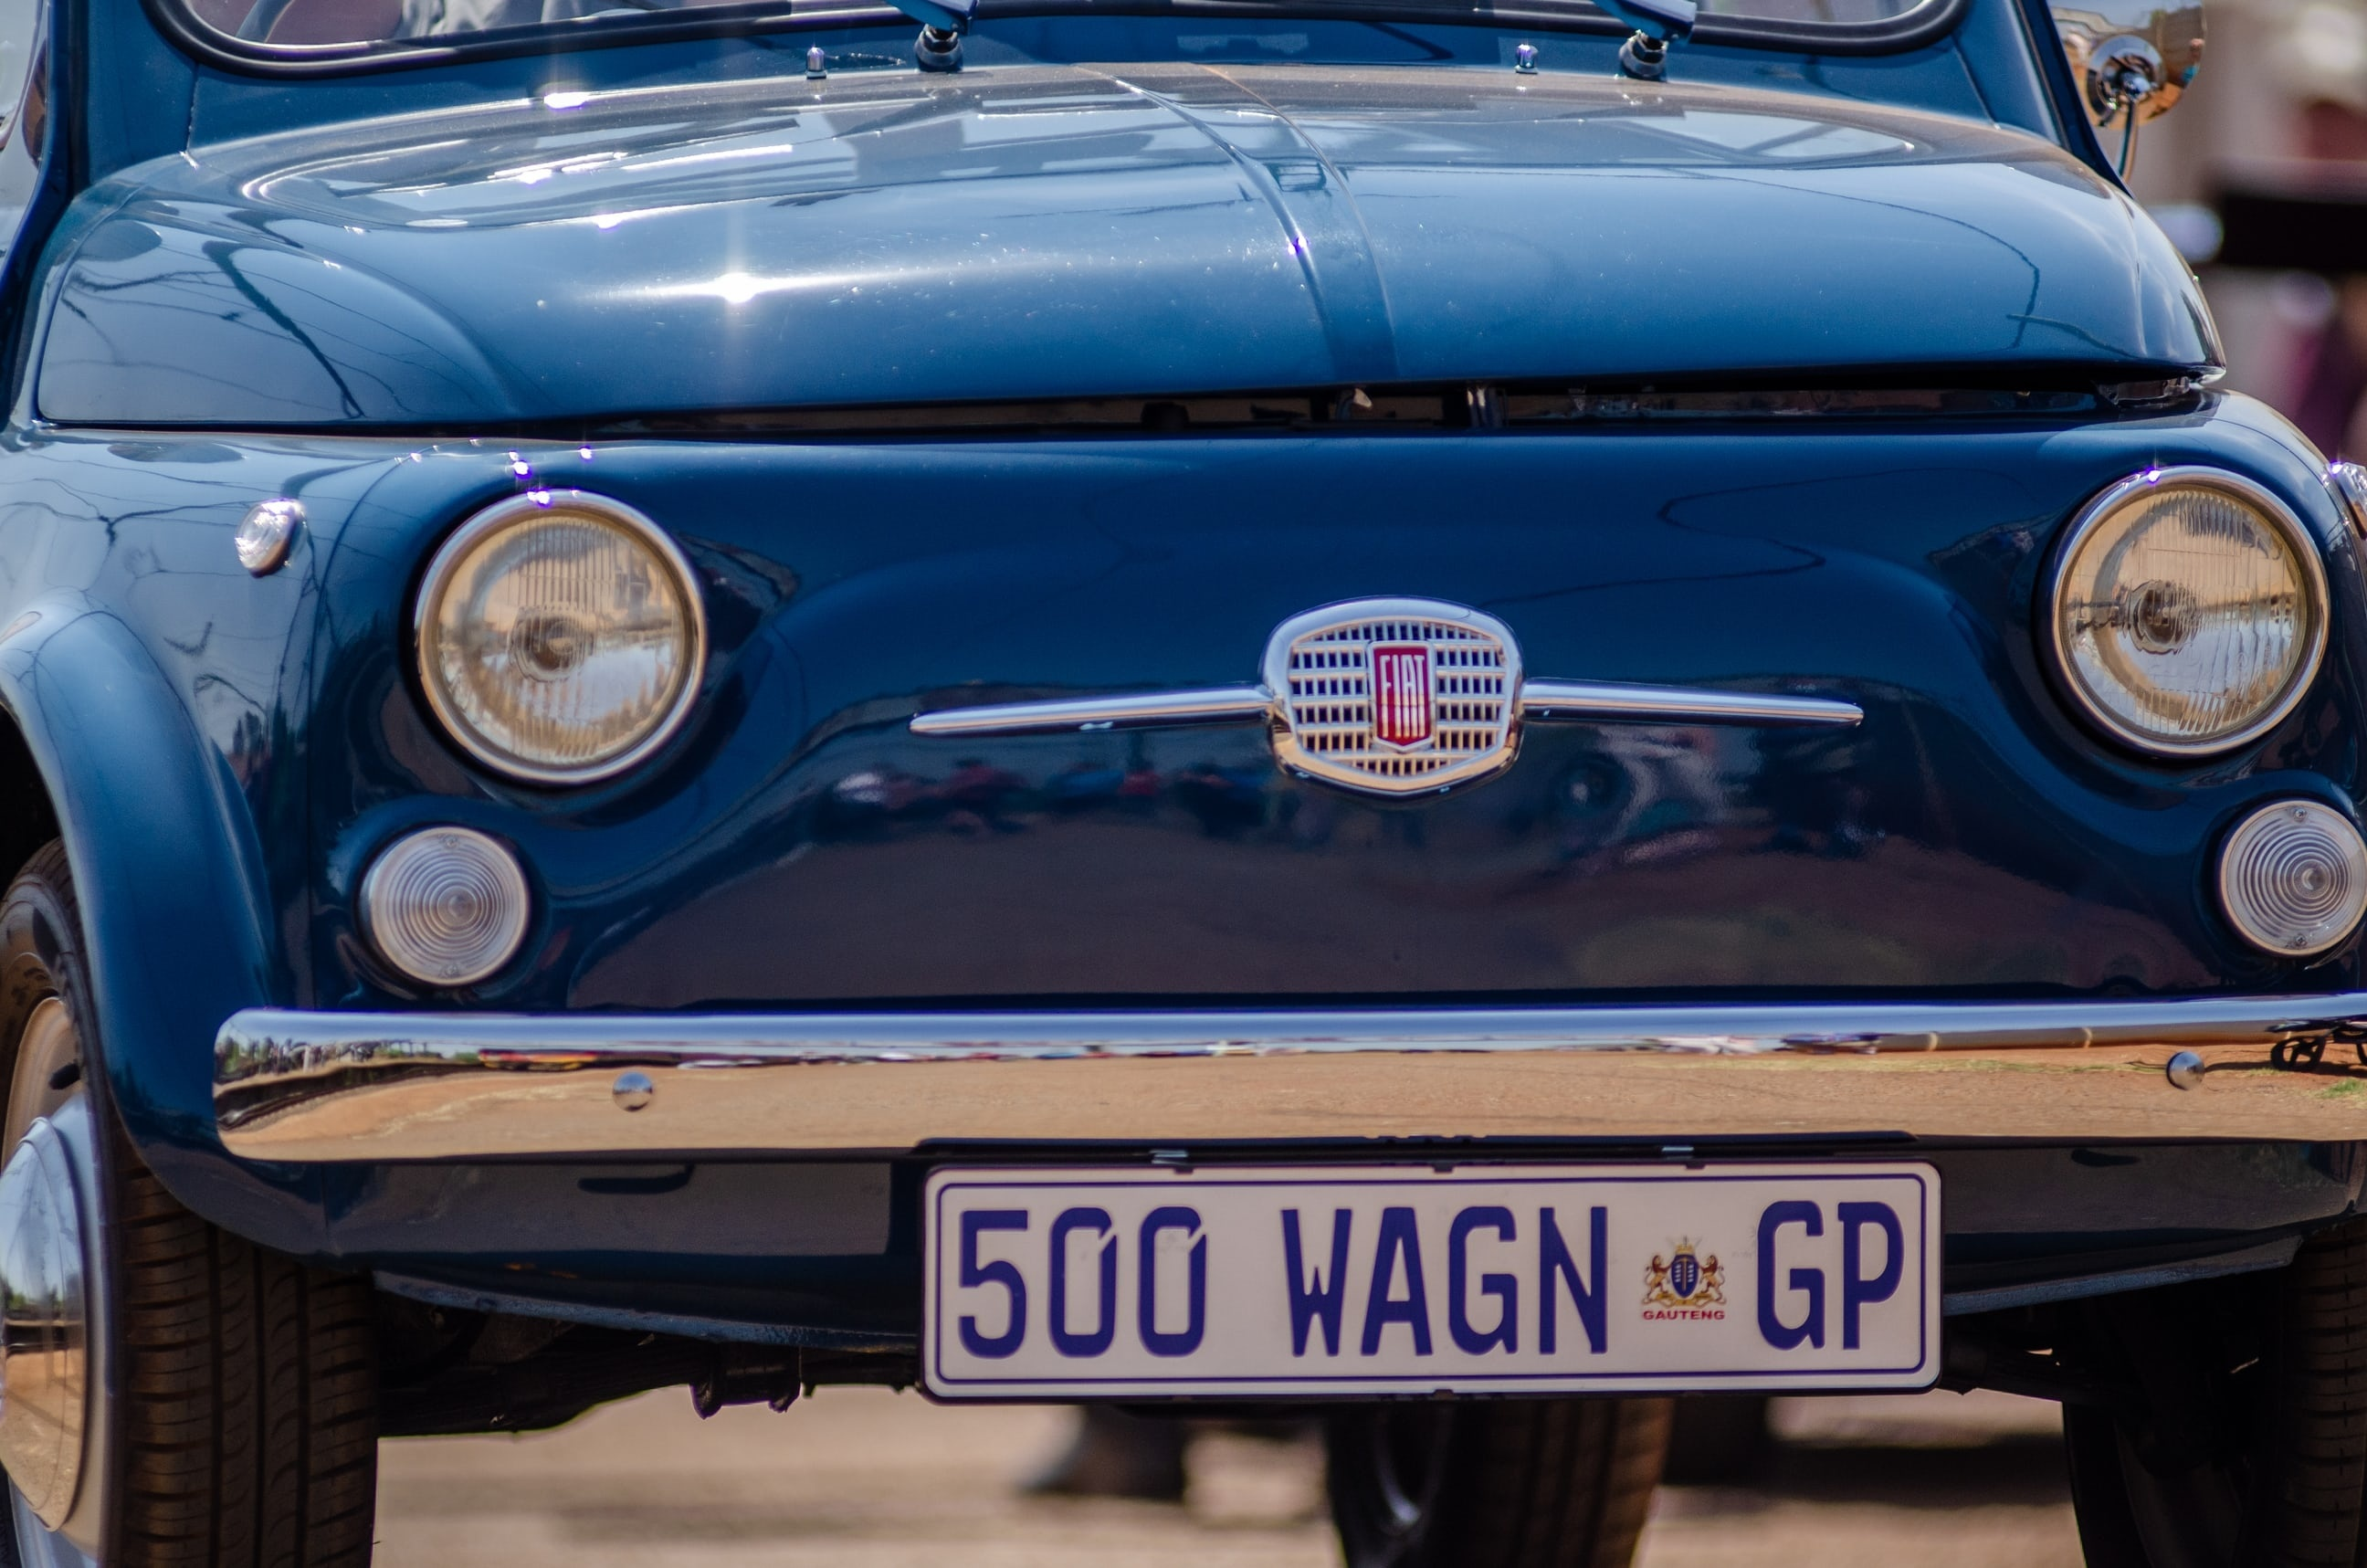plaka: (920, 1162, 1960, 1400)
